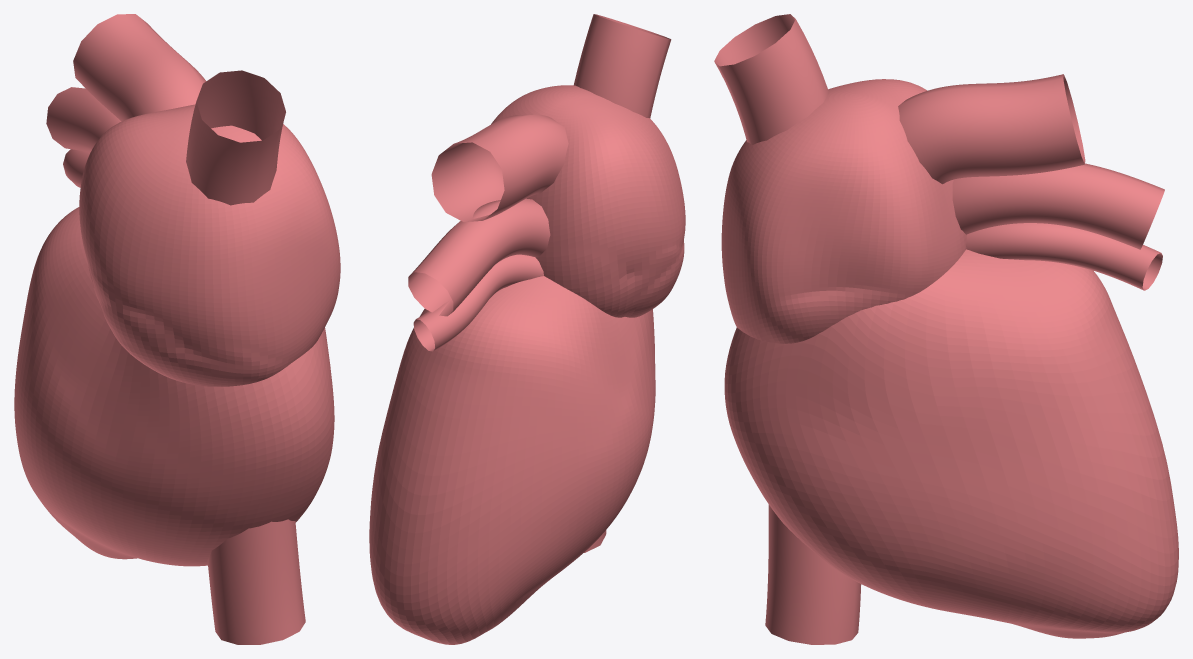
File: heart4.fbx
3 renders of one model, left to right at view 1: azimuth 30°, elevation 25°; view 2: azimuth 150°, elevation 25°; view 3: azimuth 270°, elevation 25°, orthographic. The views are drawn at different scales.
Parts seen in each view (by area): view 1: Sphere, Sphere.001, NurbsPath.003, NurbsPath.002, NurbsPath.001, NurbsPath; view 2: Sphere, Sphere.001, NurbsPath.002, NurbsPath.001, NurbsPath.003, NurbsPath; view 3: Sphere, Sphere.001, NurbsPath.003, NurbsPath.002, NurbsPath.001, NurbsPath.
Boxes of the visible parts, x1,y1,x2,y2 form: Sphere: (14, 207, 334, 566); Sphere.001: (79, 104, 340, 386); NurbsPath.003: (186, 70, 305, 644); NurbsPath.002: (73, 14, 206, 121); NurbsPath.001: (46, 87, 121, 152); NurbsPath: (63, 149, 89, 187); Sphere: (369, 276, 655, 644); Sphere.001: (491, 85, 685, 317); NurbsPath.002: (431, 114, 568, 221); NurbsPath.001: (408, 198, 550, 316); NurbsPath.003: (574, 14, 671, 552); NurbsPath: (413, 254, 543, 351); Sphere: (724, 249, 1178, 638); Sphere.001: (721, 79, 966, 343); NurbsPath.003: (714, 14, 861, 644); NurbsPath.002: (898, 74, 1085, 184); NurbsPath.001: (952, 163, 1164, 249); NurbsPath: (966, 223, 1162, 290).
Bounding box in the file's own units: 196 × 468 × 329.
